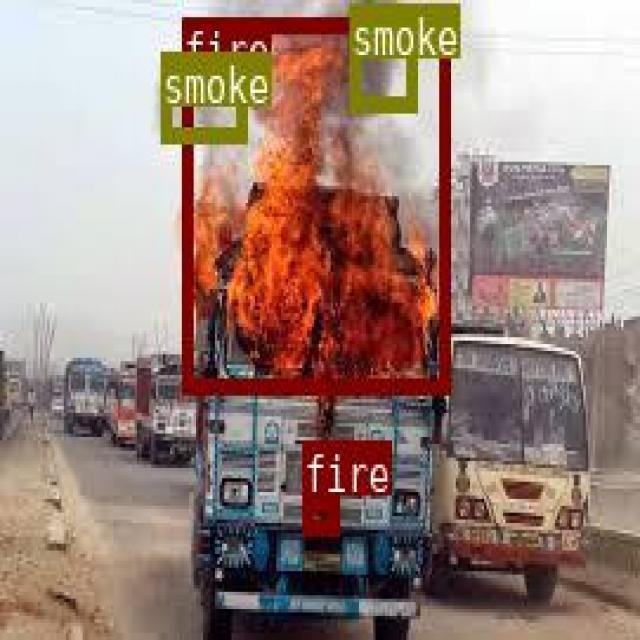fire: (181, 16, 447, 391), (302, 495, 336, 532)
smoke: (159, 51, 244, 139), (347, 3, 415, 108)
